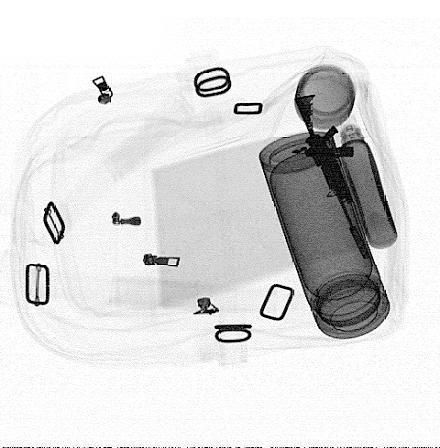Gun: (292, 92, 371, 258)
